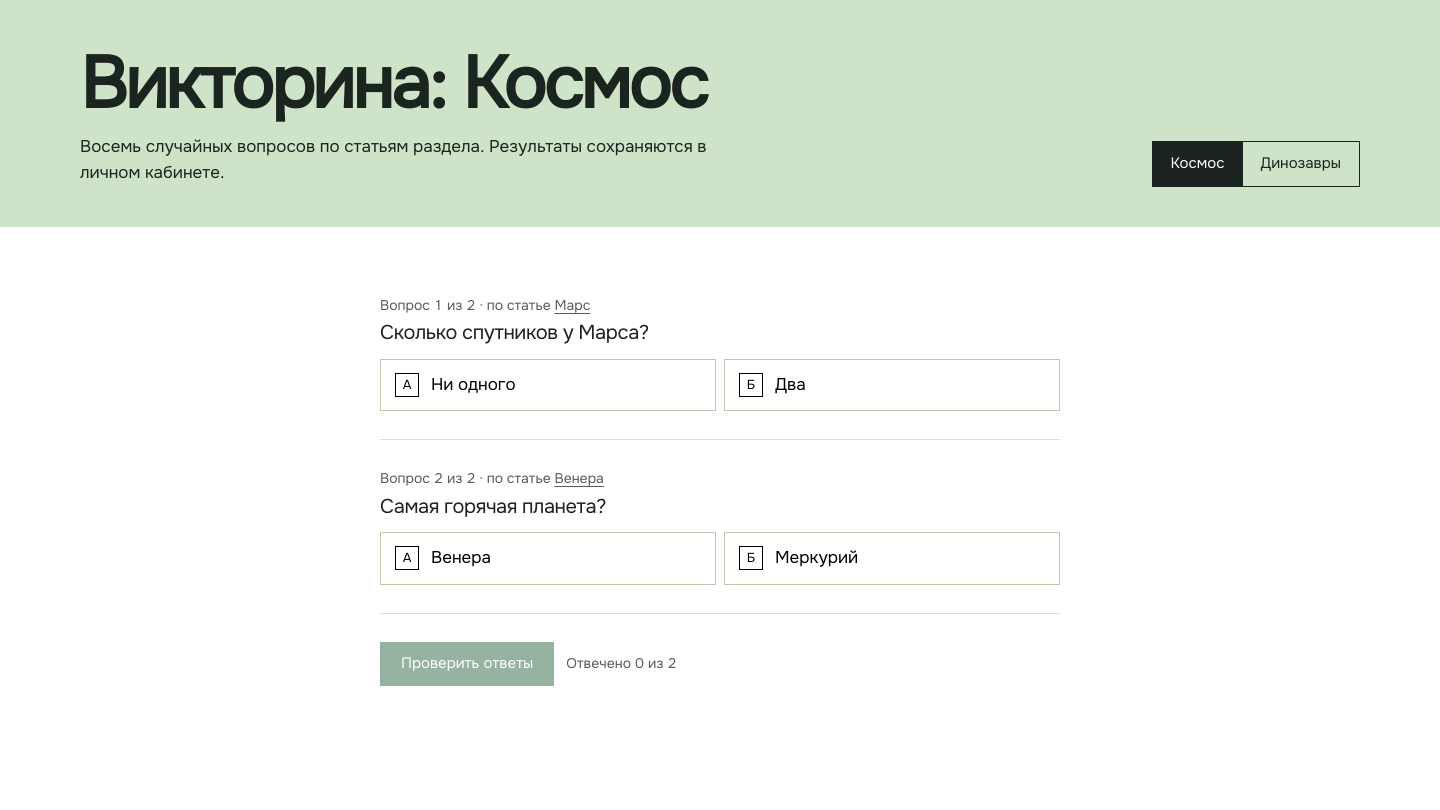
it: викторина › проверяет ответы только после выбора всех вариантов и показывает счёт
expect the heading "Сколько спутников у Марса?" is shown: met, box [380, 320, 649, 345]
expect the button "Проверить ответы" is disabled: met, box [380, 642, 554, 686]
Click the radio button labelled "Б Два".
click(790, 384)  # box [724, 359, 1060, 411]
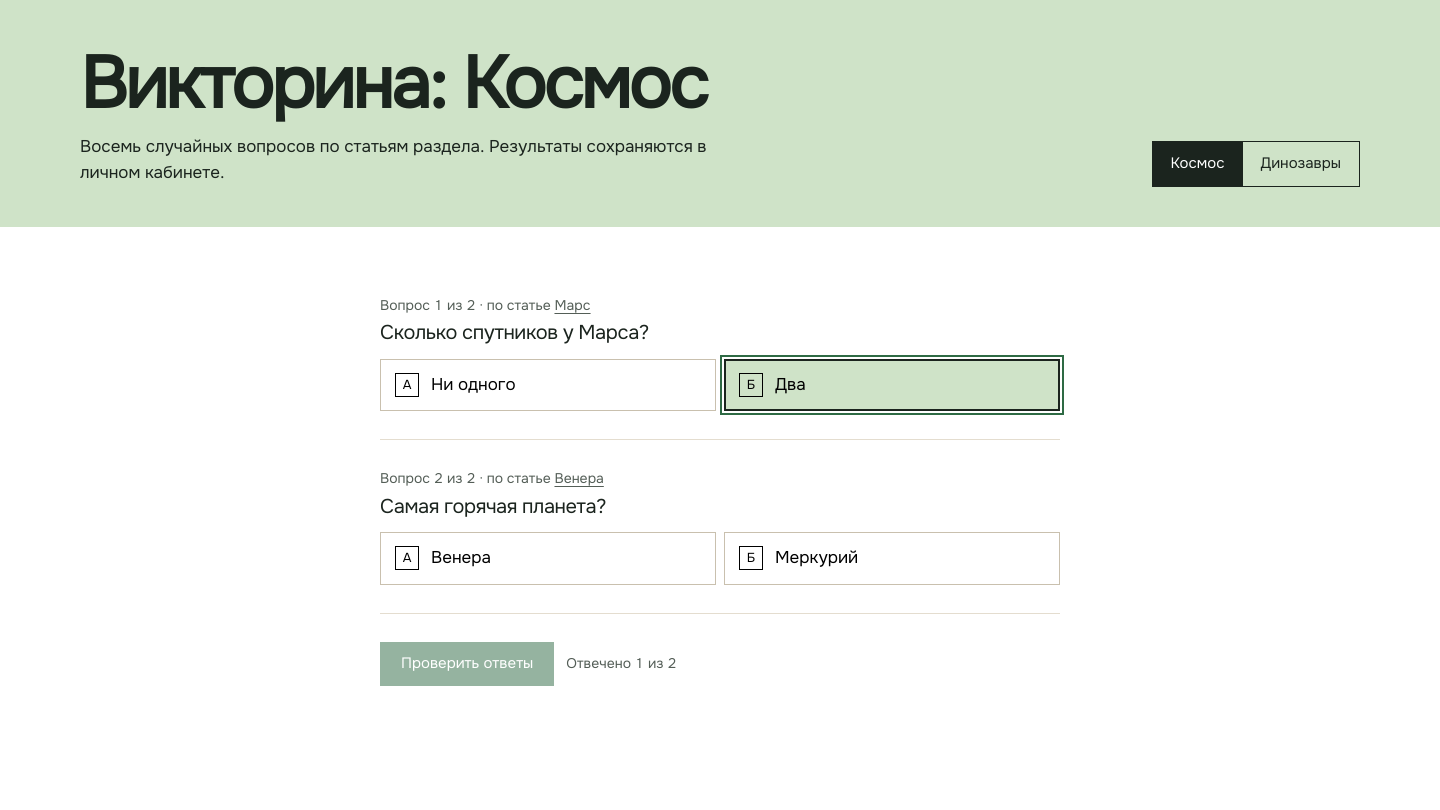
Click the radio button labelled "Б Меркурий".
click(817, 558)  # box [724, 532, 1060, 584]
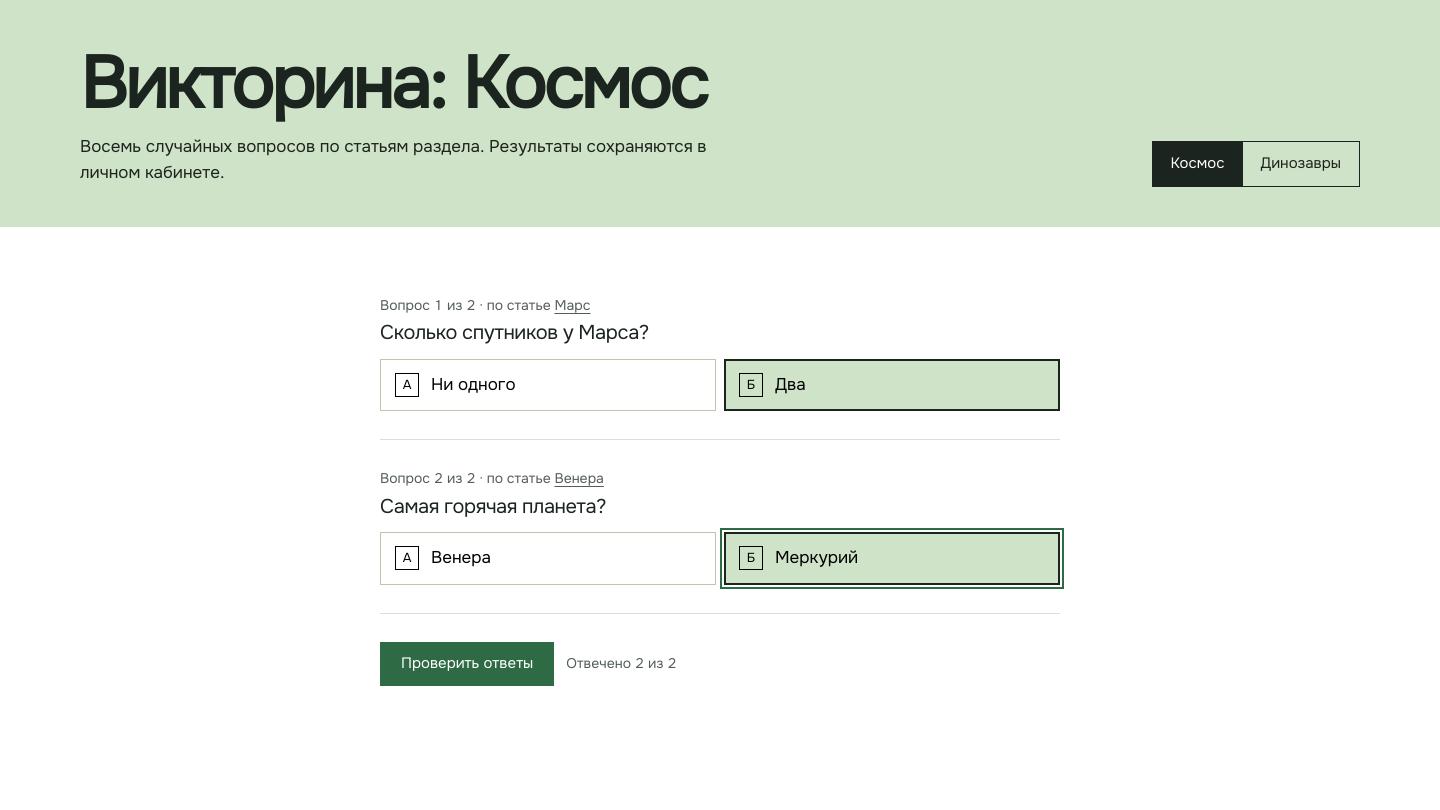
expect the button "Проверить ответы" is enabled: met
Click the button "Проверить ответы".
click(467, 664)  # box [380, 642, 554, 686]
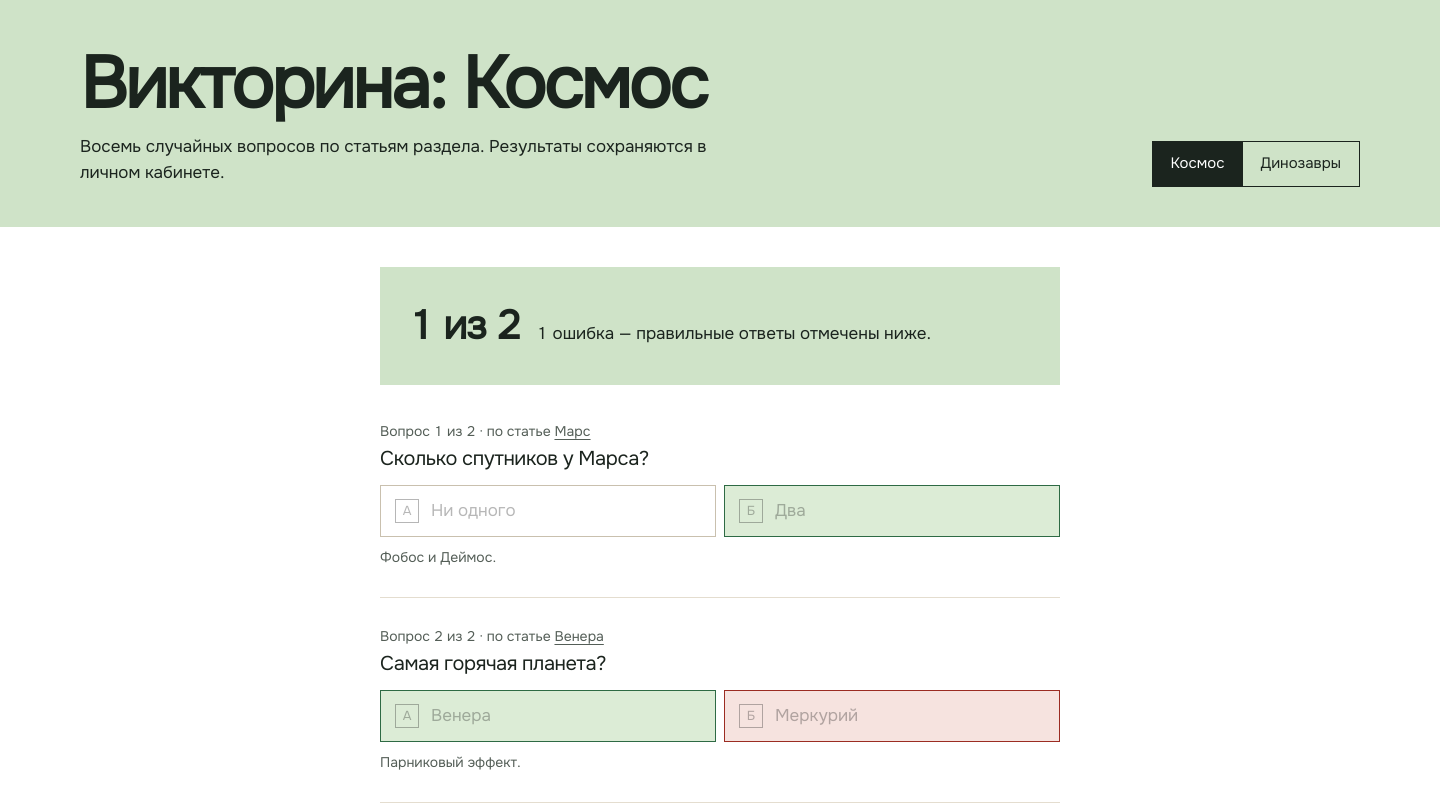
expect the text "1 из 2" is shown: met, box [408, 295, 521, 357]
expect the text "Фобос и Деймос." is shown: met, box [380, 548, 496, 566]
